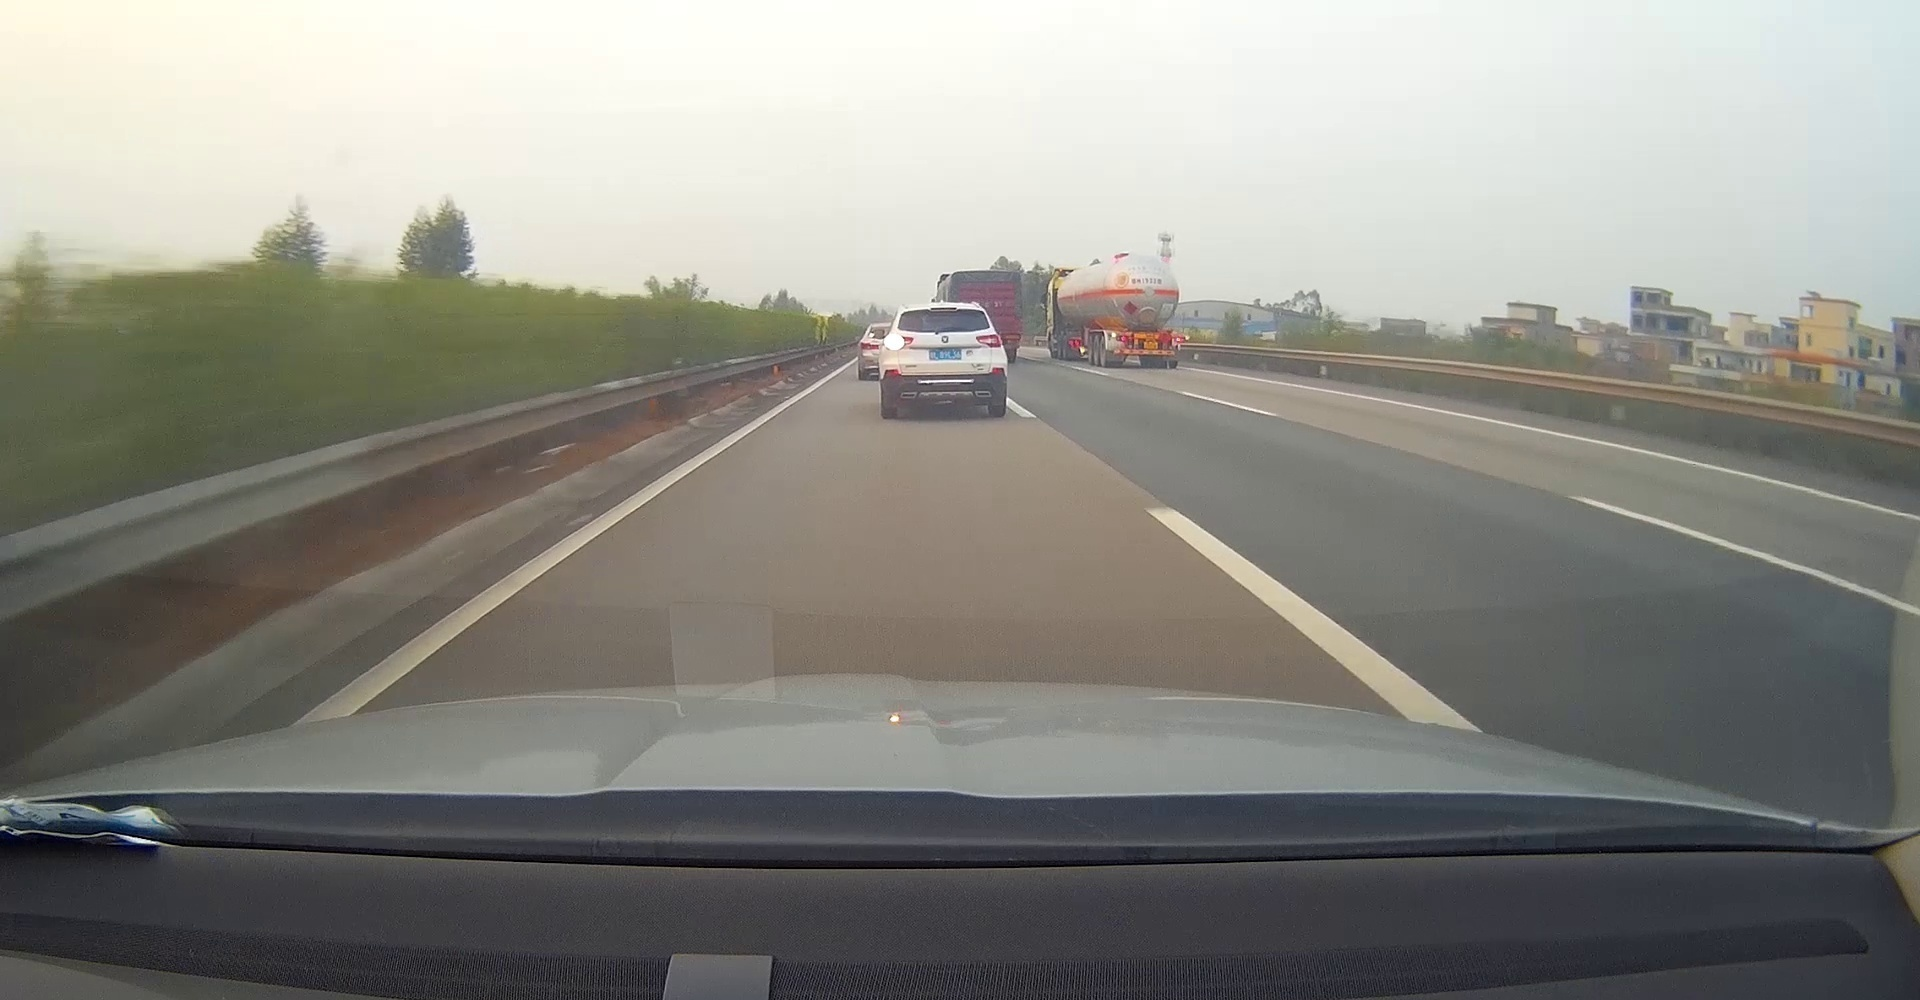L_light: (884, 336, 913, 348), (1115, 335, 1128, 341)
R_light: (977, 332, 1002, 348), (1173, 338, 1185, 343)
T_light: (930, 307, 957, 312), (1145, 332, 1156, 338)
day-left: (877, 303, 1008, 418)
day-no: (1105, 330, 1187, 369)
